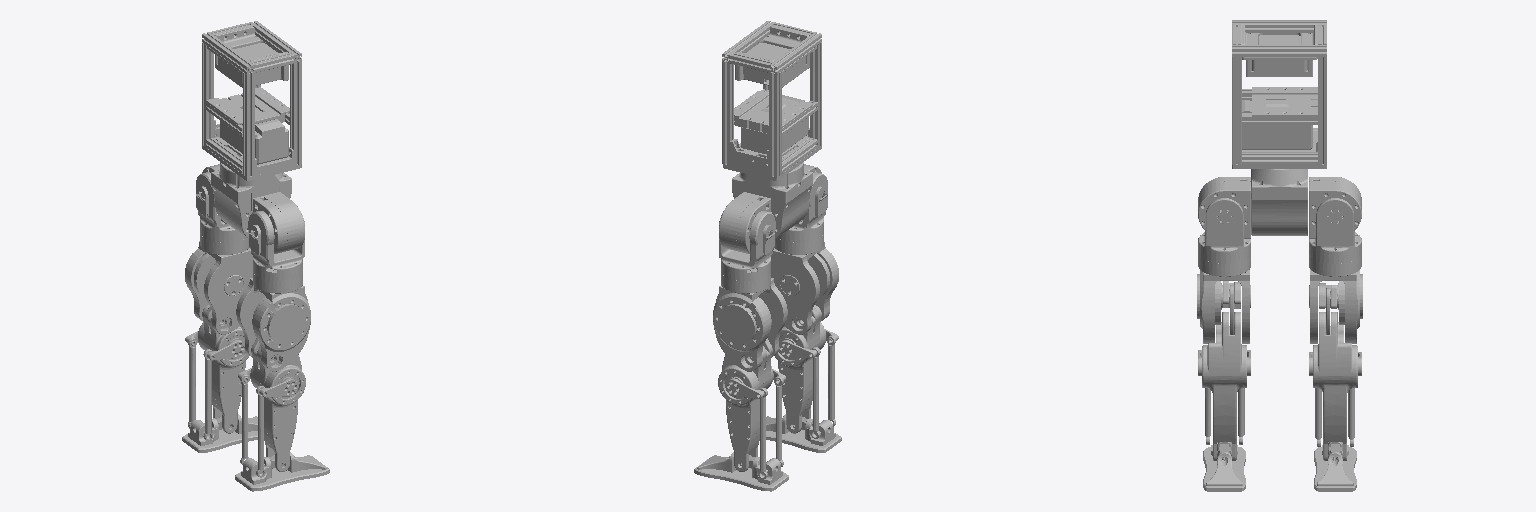
URDF robot description (QUB):
<?xml version="1.0" encoding="utf-8"?>
<robot
  name="QUB">
  <link name="base_link">
    <inertial>
      <origin
        xyz="0.0001 -0.00145 -0.00018"
        rpy="0 0 0" />
      <mass
        value="4.21449" />
      <inertia
        ixx="0.048051"
        ixy="0.000022089"
        ixz="-0.000049922"
        iyy="0.041201"
        iyz="0.0014077"
        izz="0.021693" />
    </inertial>
    <visual>
      <origin
        xyz="0 0 0"
        rpy="0 0 0" />
      <geometry>
        <mesh
          filename="../meshes/base_link.STL" />
      </geometry>
      <material name="">
        <color
          rgba="0.752941176470588 0.752941176470588 0.752941176470588 1" />
      </material>
    </visual>
    <collision>
      <origin
        xyz="0.0 -0.0001 0.0194"
        rpy="0 0 0" />
      <geometry>
        <box
          size="0.140 0.200 0.279" />
      </geometry>
    </collision>
  </link>
  <link name="pelvis_link">
    <inertial>
      <origin
        xyz="-0.00036 0.00024 0.03233"
        rpy="0 0 0" />
      <mass
        value="3.69660" />
      <inertia
        ixx="0.012187"
        ixy="-0.000011794"
        ixz="-0.000096093"
        iyy="0.011785"
        iyz="0.0000034329"
        izz="0.0075662" />
    </inertial>
    <visual>
      <origin
        xyz="0 0 0"
        rpy="0 0 0" />
      <geometry>
        <mesh
          filename="../meshes/pelvis_link.STL" />
      </geometry>
      <material name="">
        <color
          rgba="0.752941176470588 0.752941176470588 0.752941176470588 1" />
      </material>
    </visual>
    <collision>
      <origin
        xyz="0 0 0"
        rpy="0 0 0" />
      <geometry>
        <mesh
          filename="../meshes/collision/pelvis_link.STL" />
      </geometry>
    </collision>
  </link>
  <joint name="torso_yaw_joint" type="revolute">
    <origin
      xyz="0 0 -0.241618109476686"
      rpy="0 0 0" />
    <parent link="base_link" />
    <child link="pelvis_link" />
    <axis
      xyz="0 0 1" />
    <limit
      lower="-0.7854"
      upper="0.7854"
      effort="60"
      velocity="5.0" />
  </joint>
  <link name="R_hip_r_link">
    <inertial>
      <origin
        xyz="0.00347 0.00277 -0.00048"
        rpy="0 0 0" />
      <mass
        value="1.24854" />
      <inertia
        ixx="0.0018401"
        ixy="-0.00000032265"
        ixz="0.0000071076"
        iyy="0.0013999"
        iyz="0.000010876"
        izz="0.0013711" />
    </inertial>
    <visual>
      <origin
        xyz="0 0 0"
        rpy="0 0 0" />
      <geometry>
        <mesh
          filename="../meshes/R_hip_r_link.STL" />
      </geometry>
      <material name="">
        <color
          rgba="0.752941176470588 0.752941176470588 0.752941176470588 1" />
      </material>
    </visual>
    <collision>
      <origin
        xyz="0 0 0"
        rpy="0 0 0" />
      <geometry>
        <mesh
          filename="../meshes/collision/R_hip_r_link.STL" />
      </geometry>
    </collision>
  </link>
  <joint name="R_hip_pitch_joint" type="revolute">
    <origin
      xyz="0 -0.115900000000167 0"
      rpy="0 0 0" />
    <parent link="pelvis_link" />
    <child link="R_hip_r_link" />
    <axis
      xyz="0 1 0" />
    <limit
      lower="-1.5708"
      upper="0.5236"
      effort="60"
      velocity="5.0" />
  </joint>
  <link name="R_hip_y_link">
    <inertial>
      <origin
        xyz="-0.00135 -0.00025 -0.09201"
        rpy="0 0 0" />
      <mass
        value="1.32879" />
      <inertia
        ixx="0.0024344"
        ixy="0.000013039"
        ixz="-0.00013352"
        iyy="0.0027093"
        iyz="-0.000022509"
        izz="0.0019780" />
    </inertial>
    <visual>
      <origin
        xyz="0 0 0"
        rpy="0 0 0" />
      <geometry>
        <mesh
          filename="../meshes/R_hip_y_link.STL" />
      </geometry>
      <material name="">
        <color
          rgba="0.752941176470588 0.752941176470588 0.752941176470588 1" />
      </material>
    </visual>
    <collision>
      <origin
        xyz="0 0 0"
        rpy="0 0 0" />
      <geometry>
        <mesh
          filename="../meshes/collision/R_hip_y_link.STL" />
      </geometry>
    </collision>
  </link>
  <joint name="R_hip_roll_joint" type="revolute">
    <origin
      xyz="0 0 0"
      rpy="0 0 0" />
    <parent link="R_hip_r_link" />
    <child link="R_hip_y_link" />
    <axis
      xyz="1 0 0" />
    <limit
      lower="-2.4"
      upper="0"
      effort="60"
      velocity="5.0" />
  </joint>
  <link name="R_thigh_link">
    <inertial>
      <origin
        xyz="-0.00659 -0.01600 -0.00218"
        rpy="0 0 0" />
      <mass
        value="2.18164" />
      <inertia
        ixx="0.0052252"
        ixy="0.00017617"
        ixz="0.000090039"
        iyy="0.0051854"
        iyz="-0.000055426"
        izz="0.0040697" />
    </inertial>
    <visual>
      <origin
        xyz="0 0 0"
        rpy="0 0 0" />
      <geometry>
        <mesh
          filename="../meshes/R_thigh_link.STL" />
      </geometry>
      <material name="">
        <color
          rgba="0.752941176470588 0.752941176470588 0.752941176470588 1" />
      </material>
    </visual>
    <collision>
      <origin
        xyz="0 0 0"
        rpy="0 0 0" />
      <geometry>
        <mesh
          filename="../meshes/collision/R_thigh_link.STL" />
      </geometry>
    </collision>
  </link>
  <joint name="R_hip_yaw_joint" type="revolute">
    <origin
      xyz="0 0 -0.211750000000001"
      rpy="0 0 0" />
    <parent link="R_hip_y_link" />
    <child link="R_thigh_link" />
    <axis
      xyz="0 0 1" />
    <limit
      lower="-0.5236"
      upper="0.5236"
      effort="60"
      velocity="5.0" />
  </joint>
  <link name="R_calf_link">
    <inertial>
      <origin
        xyz="0.01269 0.00090 -0.10244"
        rpy="0 0 0" />
      <mass
        value="1.97157" />
      <inertia
        ixx="0.011151"
        ixy="0.000015627"
        ixz="0.0019738"
        iyy="0.011825"
        iyz="0.00018350"
        izz="0.0038490" />
    </inertial>
    <visual>
      <origin
        xyz="0 0 0"
        rpy="0 0 0" />
      <geometry>
        <mesh
          filename="../meshes/R_calf_link.STL" />
      </geometry>
      <material name="">
        <color
          rgba="0.752941176470588 0.752941176470588 0.752941176470588 1" />
      </material>
    </visual>
    <collision>
      <origin
        xyz="0 0 0"
        rpy="0 0 0" />
      <geometry>
        <mesh
          filename="../meshes/collision/R_calf_link.STL" />
      </geometry>
    </collision>
  </link>
  <joint name="R_knee_pitch_joint" type="revolute">
    <origin
      xyz="-0.0297924314284872 -0.000149999999114303 -0.0900000000000005"
      rpy="0 0 0" />
    <parent link="R_thigh_link" />
    <child link="R_calf_link" />
    <axis
      xyz="0 -1 0" />
    <limit
      lower="-1.9"
      upper="0.0"
      effort="120"
      velocity="5.0" />
  </joint>
  <link name="R_ankle_link">
    <inertial>
      <origin
        xyz="0.0 0.0 -0.00007"
        rpy="0 0 0" />
      <mass
        value="0.30000" />
      <inertia
        ixx="0.000200"
        ixy="0.0"
        ixz="0.0"
        iyy="0.000489"
        iyz="0.0"
        izz="0.000528" />
    </inertial>
    <visual>
      <origin
        xyz="0 0 0"
        rpy="0 0 0" />
      <geometry>
        <mesh
          filename="../meshes/R_ankle_link.STL" />
      </geometry>
      <material name="">
        <color
          rgba="0.698039215686274 0.698039215686274 0.698039215686274 1" />
      </material>
    </visual>
    <collision>
      <origin
        xyz="0 0 0"
        rpy="0 0 0" />
      <geometry>
        <mesh
          filename="../meshes/collision/R_ankle_link.STL" />
      </geometry>
    </collision>
  </link>
  <joint name="R_ankle_pitch_joint" type="revolute">
    <origin
      xyz="0.0299999999901397 0.000150000000093992 -0.26800000000117"
      rpy="0 0 0" />
    <parent link="R_calf_link" />
    <child link="R_ankle_link" />
    <axis
      xyz="0 -1 0" />
    <limit
      lower="-0.5236"
      upper="0.7854"
      effort="17"
      velocity="5.0" />
  </joint>
  <link name="R_foot_link">
    <inertial>
      <origin
        xyz="0.00315 0.0 -0.02405"
        rpy="0 0 0" />
      <mass
        value="0.50000" />
      <inertia
        ixx="0.001374"
        ixy="0.0"
        ixz="-0.000447"
        iyy="0.009129"
        iyz="0.0"
        izz="0.009738" />
    </inertial>
    <visual>
      <origin
        xyz="0 0 0"
        rpy="0 0 0" />
      <geometry>
        <mesh
          filename="../meshes/R_foot_link.STL" />
      </geometry>
      <material name="">
        <color
          rgba="0.752941176470588 0.752941176470588 0.752941176470588 1" />
      </material>
    </visual>
    <collision>
      <origin
        xyz="0 0 0"
        rpy="0 0 0" />
      <geometry>
        <mesh
          filename="../meshes/collision/R_foot_link.STL" />
      </geometry>
    </collision>
  </link>
  <joint name="R_ankle_roll_joint" type="revolute">
    <origin
      xyz="0 0 0"
      rpy="0 0 0" />
    <parent link="R_ankle_link" />
    <child link="R_foot_link" />
    <axis
      xyz="1 0 0" />
    <limit
      lower="-0.3491"
      upper="0.3491"
      effort="17"
      velocity="5.0" />
  </joint>
  <link name="L_hip_r_link">
    <inertial>
      <origin
        xyz="0.00347 -0.00277 -0.00048"
        rpy="0 0 0" />
      <mass
        value="1.24854" />
      <inertia
        ixx="0.0018401"
        ixy="0.00000032265"
        ixz="0.0000071076"
        iyy="0.0013999"
        iyz="-0.000010876"
        izz="0.0013711" />
    </inertial>
    <visual>
      <origin
        xyz="0 0 0"
        rpy="0 0 0" />
      <geometry>
        <mesh
          filename="../meshes/L_hip_r_link.STL" />
      </geometry>
      <material name="">
        <color
          rgba="0.752941176470588 0.752941176470588 0.752941176470588 1" />
      </material>
    </visual>
    <collision>
      <origin
        xyz="0 0 0"
        rpy="0 0 0" />
      <geometry>
        <mesh
          filename="../meshes/collision/L_hip_r_link.STL" />
      </geometry>
    </collision>
  </link>
  <joint name="L_hip_pitch_joint" type="revolute">
    <origin
      xyz="0 0.116500000000629 0"
      rpy="0 0 0" />
    <parent link="pelvis_link" />
    <child link="L_hip_r_link" />
    <axis
      xyz="0 1 0" />
    <limit
      lower="-1.5708"
      upper="0.5236"
      effort="60"
      velocity="5.0" />
  </joint>
  <link name="L_hip_y_link">
    <inertial>
      <origin
        xyz="-0.00135 0.00025 -0.09201"
        rpy="0 0 0" />
      <mass
        value="1.32879" />
      <inertia
        ixx="0.0024344"
        ixy="-0.000013039"
        ixz="-0.00013352"
        iyy="0.0027093"
        iyz="0.000022509"
        izz="0.0019780" />
    </inertial>
    <visual>
      <origin
        xyz="0 0 0"
        rpy="0 0 0" />
      <geometry>
        <mesh
          filename="../meshes/L_hip_y_link.STL" />
      </geometry>
      <material name="">
        <color
          rgba="0.752941176470588 0.752941176470588 0.752941176470588 1" />
      </material>
    </visual>
    <collision>
      <origin
        xyz="0 0 0"
        rpy="0 0 0" />
      <geometry>
        <mesh
          filename="../meshes/collision/L_hip_y_link.STL" />
      </geometry>
    </collision>
  </link>
  <joint name="L_hip_roll_joint" type="revolute">
    <origin
      xyz="0 0 0"
      rpy="0 0 0" />
    <parent link="L_hip_r_link" />
    <child link="L_hip_y_link" />
    <axis
      xyz="1 0 0" />
    <limit
      lower="0"
      upper="2.4"
      effort="60"
      velocity="5.0" />
  </joint>
  <link name="L_thigh_link">
    <inertial>
      <origin
        xyz="-0.00659 0.01600 -0.00218"
        rpy="0 0 0" />
      <mass
        value="2.18164" />
      <inertia
        ixx="0.0052252"
        ixy="-0.00017617"
        ixz="0.000090039"
        iyy="0.0051854"
        iyz="0.000055426"
        izz="0.0040697" />
    </inertial>
    <visual>
      <origin
        xyz="0 0 0"
        rpy="0 0 0" />
      <geometry>
        <mesh
          filename="../meshes/L_thigh_link.STL" />
      </geometry>
      <material name="">
        <color
          rgba="0.752941176470588 0.752941176470588 0.752941176470588 1" />
      </material>
    </visual>
    <collision>
      <origin
        xyz="0 0 0"
        rpy="0 0 0" />
      <geometry>
        <mesh
          filename="../meshes/collision/L_thigh_link.STL" />
      </geometry>
    </collision>
  </link>
  <joint name="L_hip_yaw_joint" type="revolute">
    <origin
      xyz="0 0 -0.211750000000039"
      rpy="0 0 0" />
    <parent link="L_hip_y_link" />
    <child link="L_thigh_link" />
    <axis
      xyz="0 0 1" />
    <limit
      lower="-0.5236"
      upper="0.5236"
      effort="60"
      velocity="5.0" />
  </joint>
  <link name="L_calf_link">
    <inertial>
      <origin
        xyz="0.01269 -0.00090 -0.10244"
        rpy="0 0 0" />
      <mass
        value="1.97157" />
      <inertia
        ixx="0.011151"
        ixy="-0.000015627"
        ixz="0.0019738"
        iyy="0.011825"
        iyz="-0.00018350"
        izz="0.0038490" />
    </inertial>
    <visual>
      <origin
        xyz="0 0 0"
        rpy="0 0 0" />
      <geometry>
        <mesh
          filename="../meshes/L_calf_link.STL" />
      </geometry>
      <material name="">
        <color
          rgba="0.752941176470588 0.752941176470588 0.752941176470588 1" />
      </material>
    </visual>
    <collision>
      <origin
        xyz="0 0 0"
        rpy="0 0 0" />
      <geometry>
        <mesh
          filename="../meshes/collision/L_calf_link.STL" />
      </geometry>
    </collision>
  </link>
  <joint name="L_knee_pitch_joint" type="revolute">
    <origin
      xyz="-0.0297924314283908 -0.00015000000003787 -0.0900000000000123"
      rpy="0 0 0" />
    <parent link="L_thigh_link" />
    <child link="L_calf_link" />
    <axis
      xyz="0 -1 0" />
    <limit
      lower="-1.9"
      upper="0.0"
      effort="120"
      velocity="5.0" />
  </joint>
  <link name="L_ankle_link">
    <inertial>
      <origin
        xyz="0.0 0.0 -0.00007"
        rpy="0 0 0" />
      <mass
        value="0.30000" />
      <inertia
        ixx="0.000200"
        ixy="0.0"
        ixz="0.0"
        iyy="0.000489"
        iyz="0.0"
        izz="0.000528" />
    </inertial>
    <visual>
      <origin
        xyz="0 0 0"
        rpy="0 0 0" />
      <geometry>
        <mesh
          filename="../meshes/L_ankle_link.STL" />
      </geometry>
      <material name="">
        <color
          rgba="0.698039215686274 0.698039215686274 0.698039215686274 1" />
      </material>
    </visual>
    <collision>
      <origin
        xyz="0 0 0"
        rpy="0 0 0" />
      <geometry>
        <mesh
          filename="../meshes/collision/L_ankle_link.STL" />
      </geometry>
    </collision>
  </link>
  <joint name="L_ankle_pitch_joint" type="revolute">
    <origin
      xyz="0.0300000000000302 0.000150000000055842 -0.267999999998874"
      rpy="0 0 0" />
    <parent link="L_calf_link" />
    <child link="L_ankle_link" />
    <axis
      xyz="0 1 0" />
    <limit
      lower="-0.5236"
      upper="0.7854"
      effort="17"
      velocity="5.0" />
  </joint>
  <link name="L_foot_link">
    <inertial>
      <origin
        xyz="0.00315 0.0 -0.02405"
        rpy="0 0 0" />
      <mass
        value="0.50000" />
      <inertia
        ixx="0.001374"
        ixy="0.0"
        ixz="-0.000447"
        iyy="0.009129"
        iyz="0.0"
        izz="0.009738" />
    </inertial>
    <visual>
      <origin
        xyz="0 0 0"
        rpy="0 0 0" />
      <geometry>
        <mesh
          filename="../meshes/L_foot_link.STL" />
      </geometry>
      <material name="">
        <color
          rgba="0.752941176470588 0.752941176470588 0.752941176470588 1" />
      </material>
    </visual>
    <collision>
      <origin
        xyz="0 0 0"
        rpy="0 0 0" />
      <geometry>
        <mesh
          filename="../meshes/collision/L_foot_link.STL" />
      </geometry>
    </collision>
  </link>
  <joint name="L_ankle_roll_joint" type="revolute">
    <origin
      xyz="0 0 0"
      rpy="0 0 0" />
    <parent link="L_ankle_link" />
    <child link="L_foot_link" />
    <axis
      xyz="1 0 0" />
    <limit
      lower="-0.3491"
      upper="0.3491"
      effort="17"
      velocity="5.0" />
  </joint>
</robot>

--- What the picture shows (computed from the rendered views, not written in the file) ---
3 views of the same robot in one strip: view 1: azimuth 30°, elevation 25°; view 2: azimuth 150°, elevation 25°; view 3: azimuth 270°, elevation 25° (orthographic).
Robot: QUB — 14 links, 13 joints (13 revolute); root link base_link; default pose: every joint at zero.
Links seen in each view (by area): view 1: base_link, R_calf_link, L_calf_link, R_thigh_link, L_thigh_link, R_hip_y_link, pelvis_link, L_hip_y_link, R_hip_r_link, R_foot_link, L_foot_link; view 2: base_link, L_calf_link, R_calf_link, L_thigh_link, R_thigh_link, L_hip_y_link, pelvis_link, R_hip_y_link, L_hip_r_link, L_foot_link, R_foot_link; view 3: base_link, L_calf_link, R_calf_link, pelvis_link, L_hip_y_link, R_hip_y_link, R_thigh_link, L_thigh_link, R_foot_link, L_foot_link, R_hip_r_link, L_hip_r_link.
Link boxes in pixels (<box>): base_link: <box>202,21,301,180</box>; R_calf_link: <box>238,338,305,477</box>; L_calf_link: <box>185,305,248,440</box>; R_thigh_link: <box>236,278,310,371</box>; L_thigh_link: <box>185,241,252,334</box>; R_hip_y_link: <box>248,211,304,293</box>; pelvis_link: <box>211,162,291,238</box>; L_hip_y_link: <box>196,172,249,254</box>; R_hip_r_link: <box>253,192,304,253</box>; R_foot_link: <box>235,452,329,491</box>; L_foot_link: <box>182,414,257,452</box>; base_link: <box>722,21,821,180</box>; L_calf_link: <box>718,338,785,479</box>; R_calf_link: <box>775,305,838,438</box>; L_thigh_link: <box>713,278,787,371</box>; R_thigh_link: <box>771,242,838,334</box>; L_hip_y_link: <box>719,211,775,293</box>; pelvis_link: <box>732,162,812,238</box>; R_hip_y_link: <box>774,172,827,254</box>; L_hip_r_link: <box>719,192,770,253</box>; L_foot_link: <box>694,452,788,491</box>; R_foot_link: <box>766,414,841,452</box>; base_link: <box>1232,20,1326,168</box>; L_calf_link: <box>1309,312,1361,460</box>; R_calf_link: <box>1198,312,1250,460</box>; pelvis_link: <box>1251,169,1307,235</box>; L_hip_y_link: <box>1309,198,1361,276</box>; R_hip_y_link: <box>1198,198,1250,276</box>; R_thigh_link: <box>1197,270,1250,343</box>; L_thigh_link: <box>1309,270,1362,343</box>; R_foot_link: <box>1203,442,1245,491</box>; L_foot_link: <box>1314,442,1356,491</box>; R_hip_r_link: <box>1198,177,1250,238</box>; L_hip_r_link: <box>1309,177,1361,238</box>.
Bounding box of the posed robot: 0.2 × 0.3508 × 1.01 m (x, y, z).
Meshes: 14 distinct files referenced, 14 mesh visuals loaded (14 binary STL).
